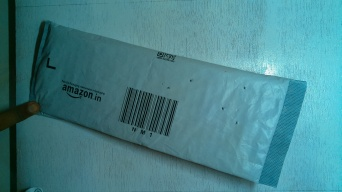a: (36, 18, 307, 189)
